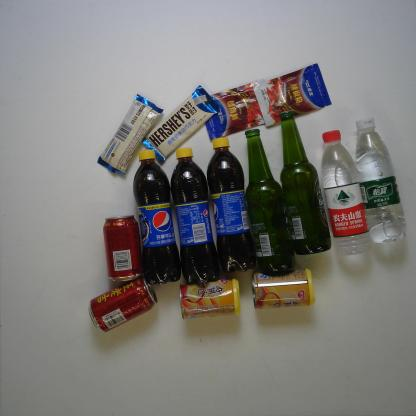Alcohol: (278, 109, 332, 256), (244, 128, 297, 274)
Canned Food: (251, 268, 315, 310), (178, 278, 242, 320)
Chocolate: (141, 85, 221, 163), (97, 93, 164, 175)
Drink: (169, 146, 221, 285), (206, 136, 258, 274), (132, 149, 182, 286), (321, 129, 373, 257), (355, 117, 407, 244), (87, 275, 159, 333), (102, 214, 144, 283)
Seasoner: (253, 62, 332, 127), (204, 79, 268, 141)
